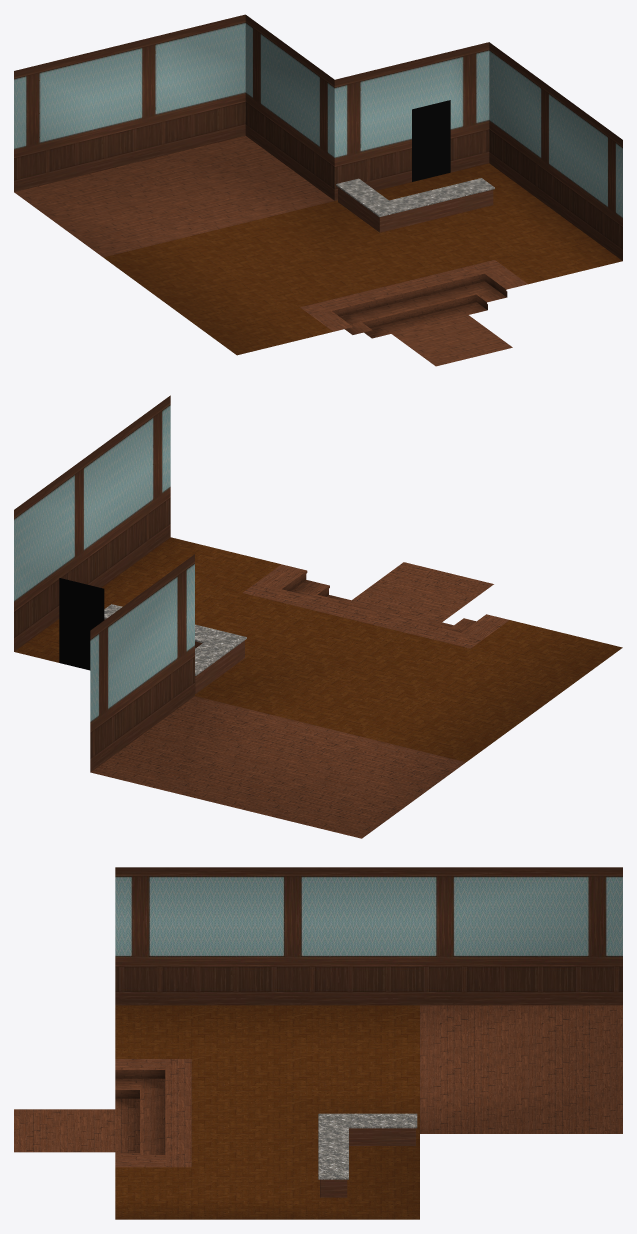
Rendered from shop-interior.glb.
3 views of the same model, one above another, from view 1: azimuth 30°, elevation 25°; view 2: azimuth 150°, elevation 25°; view 3: azimuth 270°, elevation 25° (orthographic). The views are drawn at different scales.
Visible parts, largest first — view 1: shop, counter2-col; view 2: shop, counter2-col; view 3: shop, counter2-col.
Part boxes in pixels (box(x1,y1,x2,y2)): shop: box(14, 14, 622, 366); counter2-col: box(336, 178, 494, 232); shop: box(14, 395, 622, 838); counter2-col: box(104, 604, 246, 693); shop: box(14, 867, 622, 1219); counter2-col: box(318, 1113, 417, 1197).
Size of what is drawn, in the model's own units: 10 by 3.4 by 12.
Materials: 5 (4 with a texture image).
